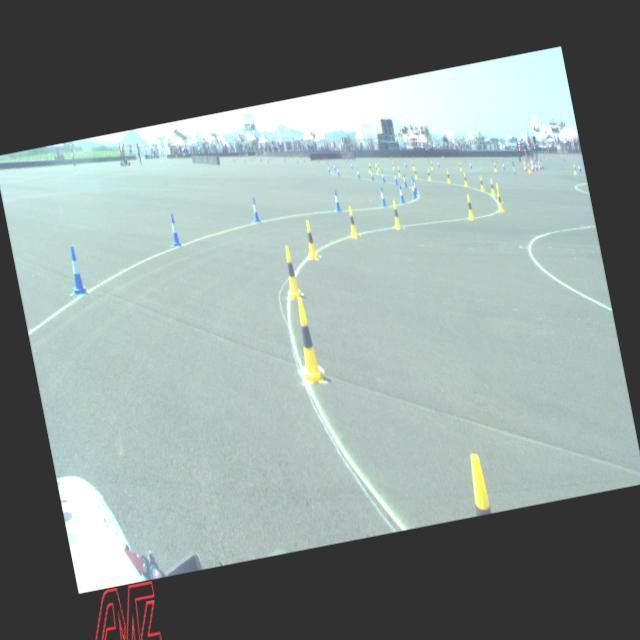blue_cone: (64, 246, 86, 296), (168, 213, 182, 247), (250, 197, 261, 223), (332, 188, 342, 212), (378, 187, 386, 207), (397, 184, 405, 204), (410, 180, 417, 198), (412, 178, 418, 195), (408, 176, 414, 191), (380, 170, 386, 182), (402, 174, 407, 187), (393, 172, 398, 184), (356, 168, 361, 179), (369, 169, 374, 180), (336, 166, 340, 176), (578, 163, 582, 172), (327, 164, 331, 173), (534, 162, 538, 170), (404, 161, 408, 168), (350, 162, 353, 170), (333, 162, 336, 170), (437, 160, 440, 167), (469, 161, 472, 168), (502, 162, 505, 168)
large_orange_cone: (522, 158, 528, 172), (529, 160, 534, 173), (537, 157, 541, 170), (531, 158, 535, 171)
yellow_cone: (290, 299, 324, 386), (280, 246, 302, 298), (302, 220, 318, 260), (345, 206, 359, 238), (390, 200, 402, 230), (464, 195, 476, 221), (494, 190, 504, 212), (494, 182, 502, 202), (488, 179, 496, 196), (478, 175, 485, 191), (426, 168, 432, 180), (463, 172, 468, 185), (412, 168, 418, 178), (446, 170, 450, 183), (397, 166, 401, 177), (573, 164, 577, 174), (493, 162, 497, 172), (368, 162, 372, 172), (375, 164, 379, 174), (527, 164, 531, 173), (430, 162, 433, 170), (411, 162, 414, 170), (392, 162, 395, 170), (459, 162, 462, 170), (377, 162, 380, 170)
